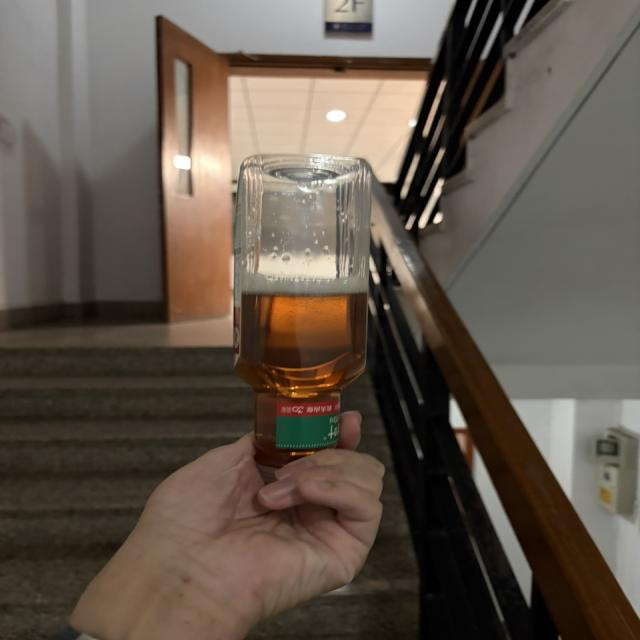medium: (234, 154, 371, 480)
